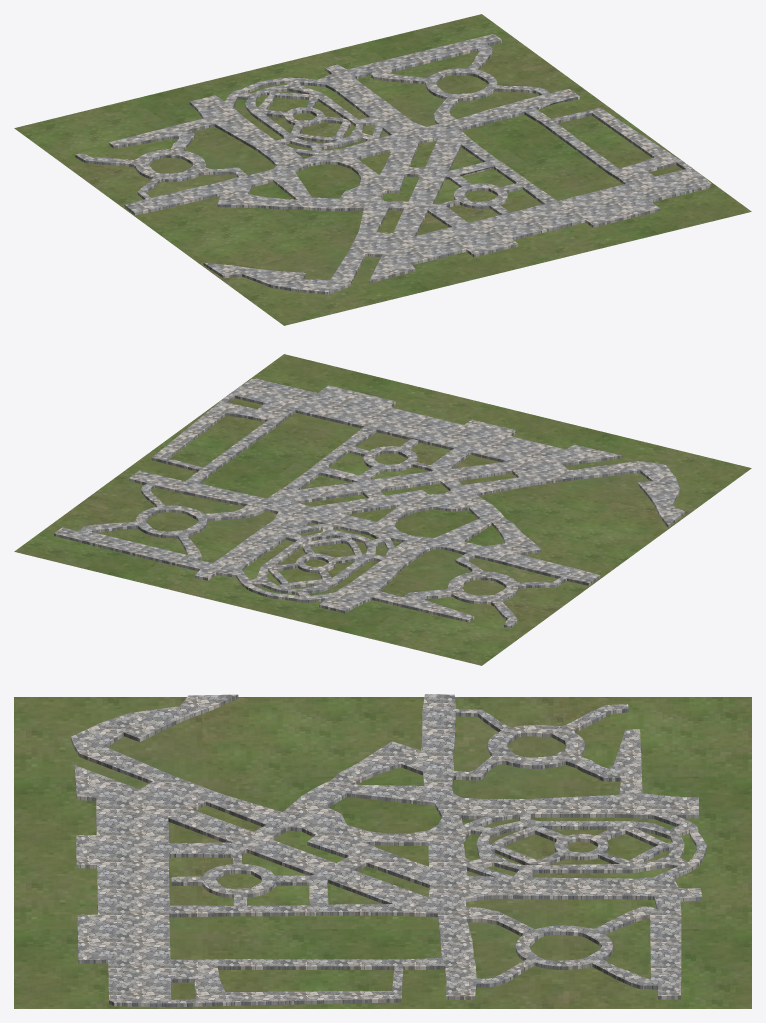
The model's file is GARDEN ROAD.fbx.
3 views of the same model, one above another, from view 1: azimuth 30°, elevation 25°; view 2: azimuth 150°, elevation 25°; view 3: azimuth 270°, elevation 25° (orthographic). The views are drawn at different scales.
Visible parts, largest first — view 1: pPlane1, pDisc5; view 2: pPlane1, pDisc5; view 3: pPlane1, pDisc5.
Boxes of the visible parts, x1,y1,x2,y2 form: pPlane1: (14, 14, 751, 325); pDisc5: (75, 34, 711, 294); pPlane1: (14, 354, 751, 665); pDisc5: (54, 378, 684, 628); pPlane1: (14, 697, 751, 1008); pDisc5: (71, 694, 706, 1007).
Size of the model in its own units: 2518 by 17.04 by 2518.
